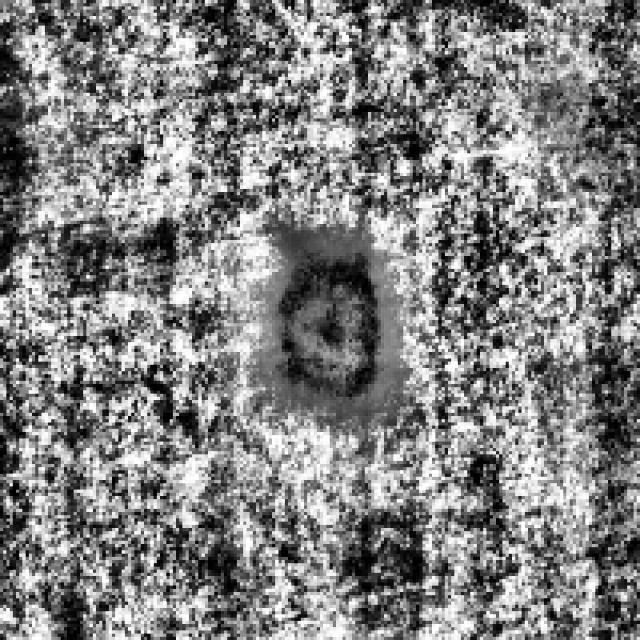Scratches: (269, 230, 381, 404)
